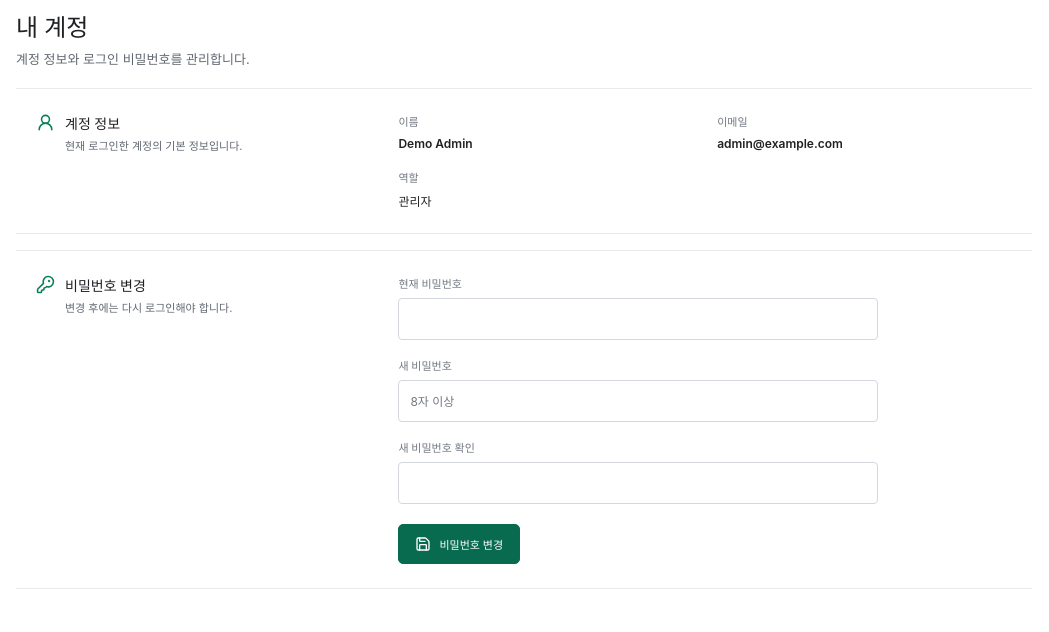
it: AccountPage › validates the password confirmation
Type "Password123!" into the password field labelled "현재 비밀번호" at (638, 319), box [398,298,878,340]
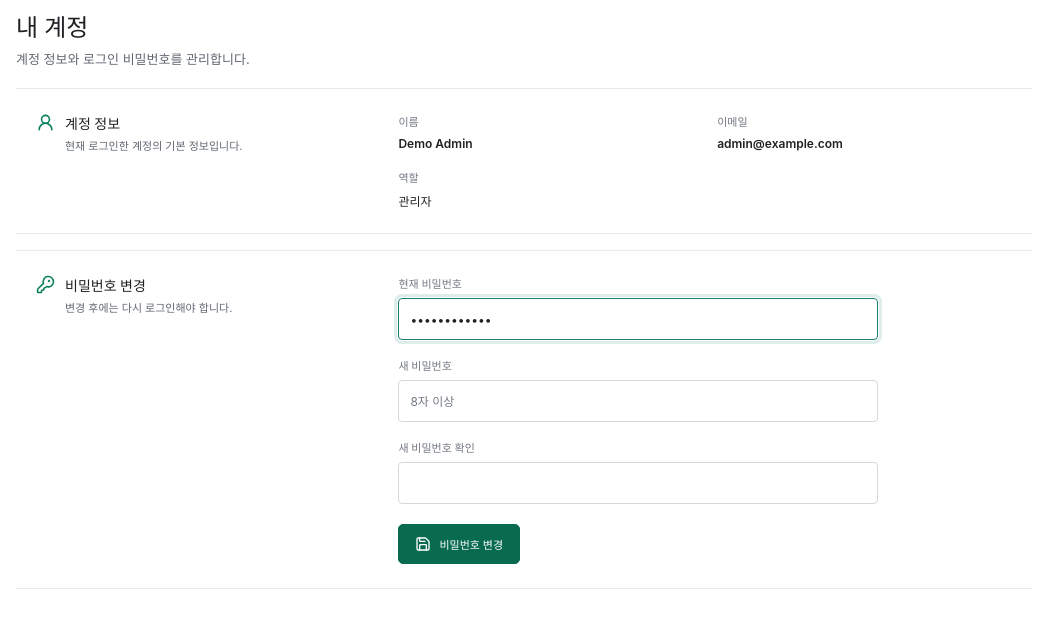
Type "NewPassword123!" into the password field labelled "새 비밀번호" at (638, 401), box [398,380,878,422]
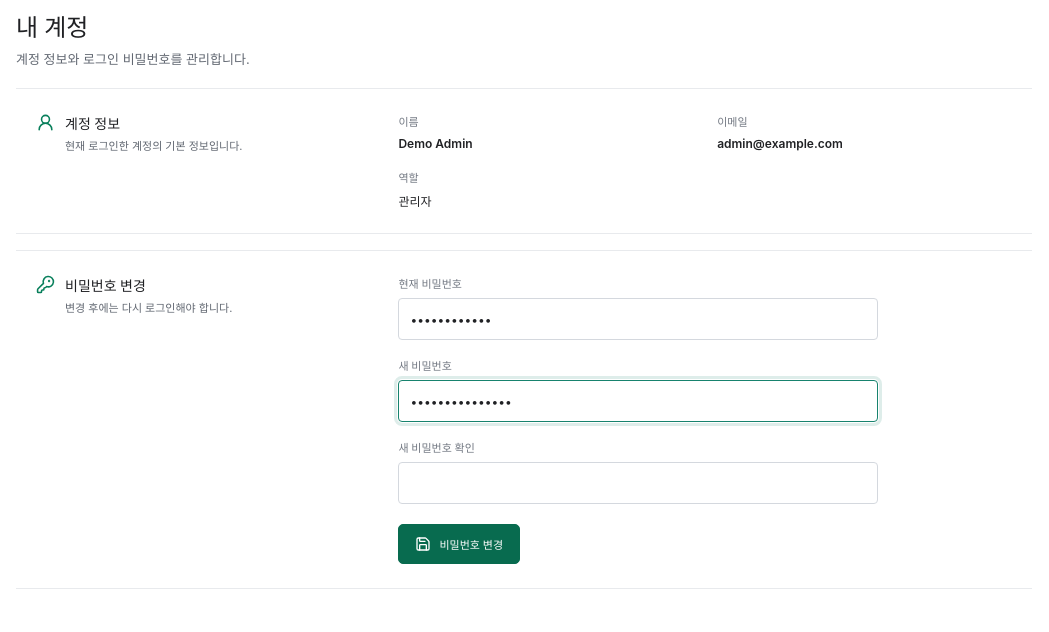
Type "Different123!" into the password field labelled "새 비밀번호 확인" at (638, 483), box [398,462,878,504]
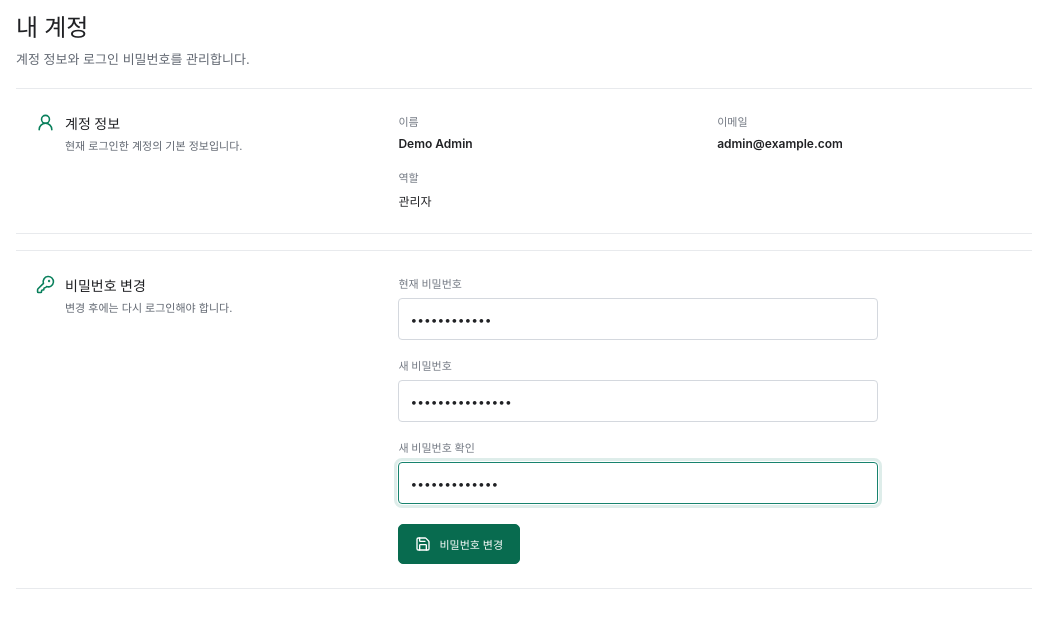
Click the button "비밀번호 변경" at (459, 544), box [398,524,520,564]
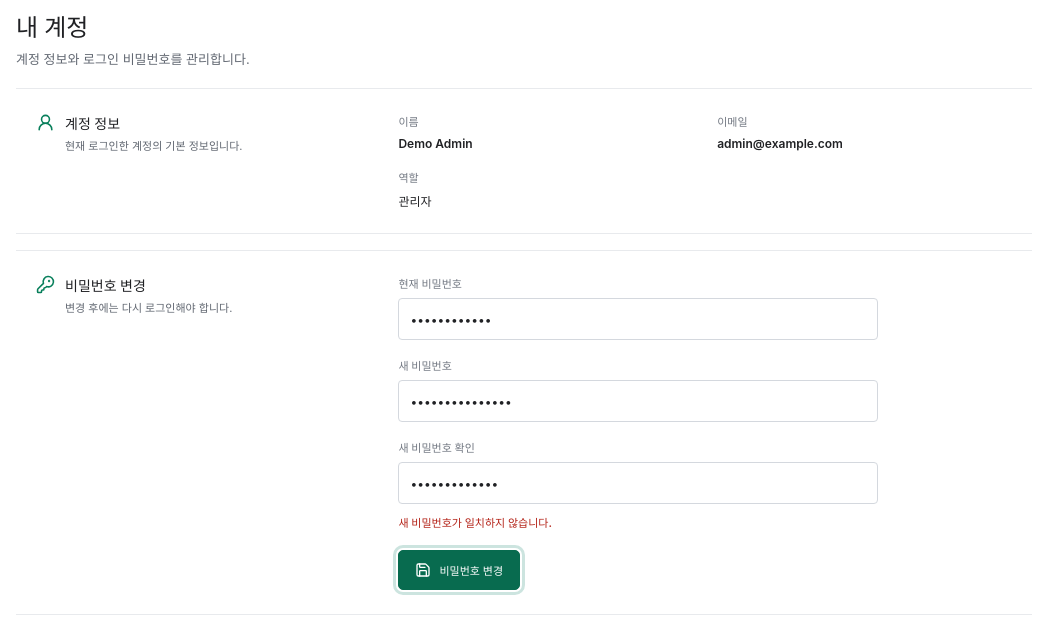
expect the message reads "새 비밀번호가 일치하지 않습니다.": met, box [398,516,552,530]
